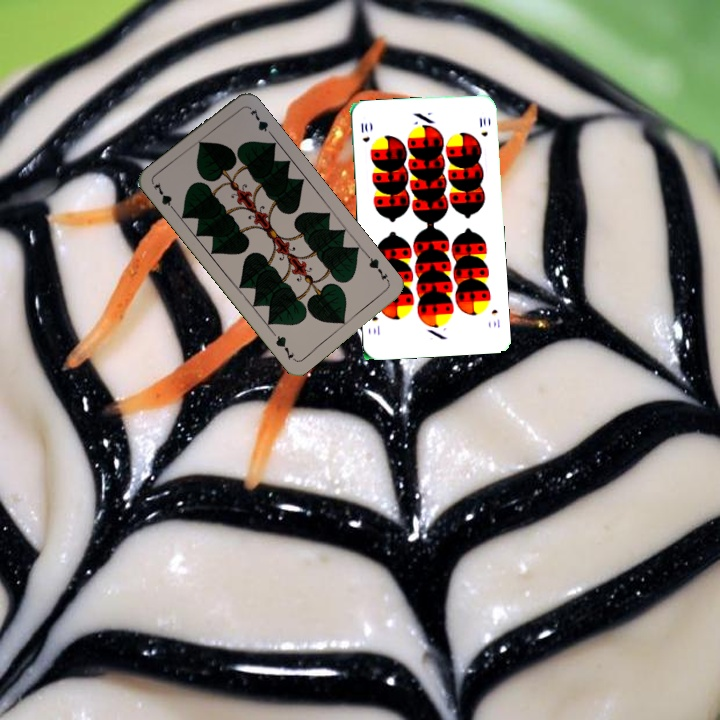G7: (149, 178, 179, 215), (363, 251, 392, 286)
S10: (357, 119, 372, 145), (487, 305, 502, 330)
